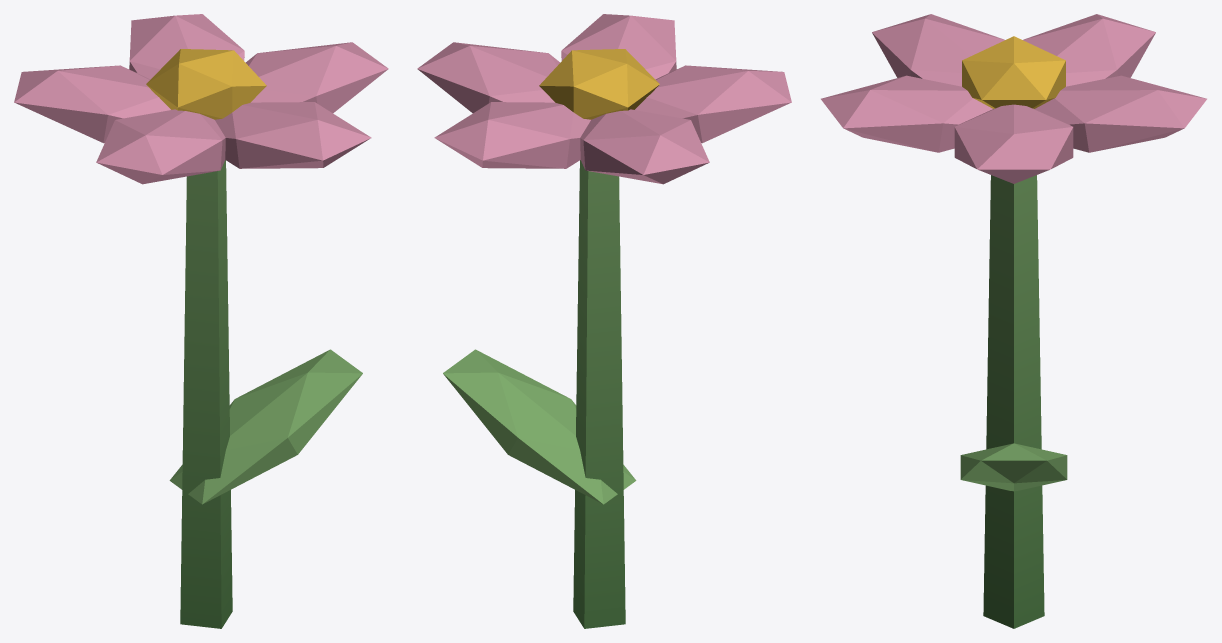
Rendered from FlowerPink.fbx.
3 renders of one model, left to right at view 1: azimuth 30°, elevation 25°; view 2: azimuth 150°, elevation 25°; view 3: azimuth 270°, elevation 25°, orthographic.
Visible parts, largest first — view 1: FlowerPink; view 2: FlowerPink; view 3: FlowerPink.
Boxes of the visible parts, left/top/right/bottom form: FlowerPink: left=14, top=14, right=388, bottom=628; FlowerPink: left=417, top=14, right=791, bottom=628; FlowerPink: left=821, top=14, right=1206, bottom=628.
Bounding box in the file's own units: 0.0843 × 0.1431 × 0.0886.
